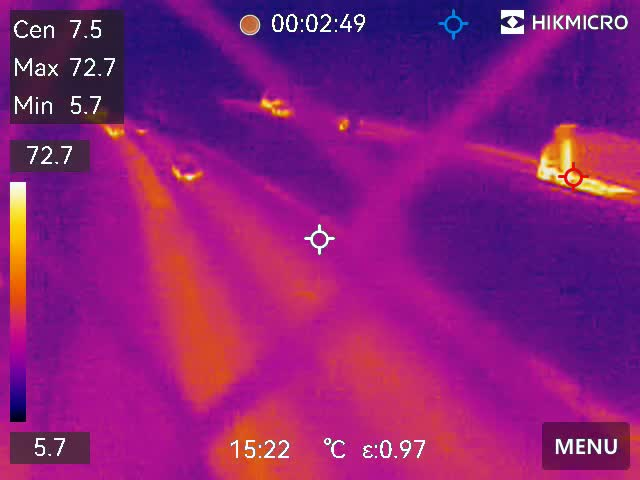heavyTruck: (534, 110, 640, 204)
